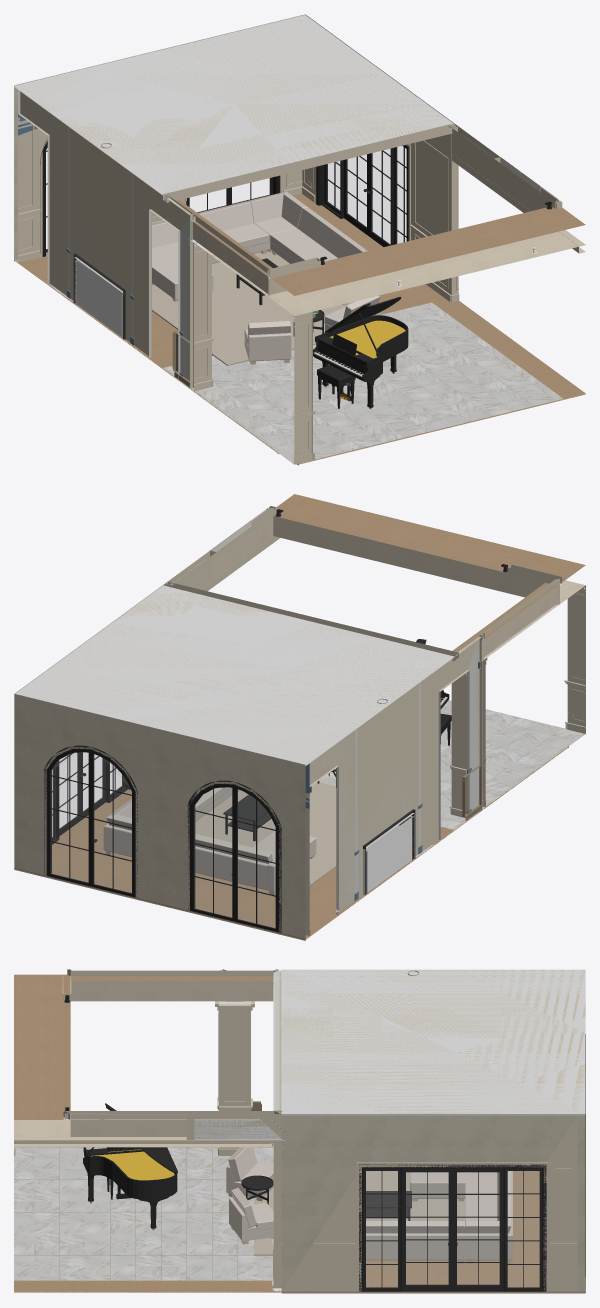
The model's file is family-room-7c22b0fc4dee.glb.
The picture shows the model from 3 angles, top to bottom: view 1: azimuth 30°, elevation 25°; view 2: azimuth 150°, elevation 25°; view 3: azimuth 270°, elevation 25°; orthographic projection.
Visible parts, largest first — view 1: family-room-4a969f5cc1ae3dfe, family-room-ba376bd68a22f7f3, family-room-50d54560d247b537, family-room-2575515a05775d9e, family-room-9d80b152e3f2ea10, family-room-3b0077416469e01b, family-room-3d5fbc3a2a5f9c05, family-room-88f8978e186bf417, family-room-1a893a20b01c9fd3, family-room-55ff1dfd7b659ec1, family-room-969b861f9850351e, family-room-e706aa16b4547c37 (+19 smaller); view 2: family-room-4a969f5cc1ae3dfe, family-room-969b861f9850351e, family-room-9d80b152e3f2ea10, family-room-2575515a05775d9e, family-room-316290d012168088, family-room-b57b1dfcc6ff1bca, family-room-50d54560d247b537, family-room-3b0077416469e01b, family-room-55ff1dfd7b659ec1, family-room-ba376bd68a22f7f3, family-room-88f8978e186bf417, family-room-3d5fbc3a2a5f9c05 (+13 smaller); view 3: family-room-4a969f5cc1ae3dfe, family-room-e706aa16b4547c37, family-room-ba376bd68a22f7f3, family-room-3d5fbc3a2a5f9c05, family-room-50d54560d247b537, family-room-2575515a05775d9e, family-room-3b0077416469e01b, family-room-0bd714ee3619f5b4, family-room-1a893a20b01c9fd3, family-room-d20359ea22d8532c, family-room-65a368b7809647e4, family-room-a8ea7d4d2b17a47a (+20 smaller).
Boxes of the visible parts, left/top/right/bottom form: family-room-4a969f5cc1ae3dfe: left=14, top=15, right=453, bottom=195; family-room-ba376bd68a22f7f3: left=163, top=302, right=563, bottom=463; family-room-50d54560d247b537: left=14, top=14, right=454, bottom=194; family-room-2575515a05775d9e: left=191, top=162, right=585, bottom=315; family-room-9d80b152e3f2ea10: left=20, top=91, right=190, bottom=380; family-room-3b0077416469e01b: left=14, top=194, right=585, bottom=464; family-room-3d5fbc3a2a5f9c05: left=316, top=145, right=408, bottom=246; family-room-88f8978e186bf417: left=152, top=251, right=384, bottom=365; family-room-1a893a20b01c9fd3: left=313, top=297, right=408, bottom=409; family-room-55ff1dfd7b659ec1: left=18, top=90, right=189, bottom=380; family-room-969b861f9850351e: left=14, top=87, right=302, bottom=262; family-room-e706aa16b4547c37: left=302, top=134, right=447, bottom=291; family-room-4a969f5cc1ae3dfe: left=14, top=585, right=454, bottom=765; family-room-969b861f9850351e: left=14, top=695, right=309, bottom=938; family-room-9d80b152e3f2ea10: left=309, top=639, right=479, bottom=912; family-room-2575515a05775d9e: left=206, top=494, right=585, bottom=660; family-room-316290d012168088: left=187, top=780, right=281, bottom=932; family-room-b57b1dfcc6ff1bca: left=44, top=745, right=137, bottom=897; family-room-50d54560d247b537: left=14, top=584, right=445, bottom=765; family-room-3b0077416469e01b: left=14, top=746, right=568, bottom=939; family-room-55ff1dfd7b659ec1: left=309, top=637, right=481, bottom=913; family-room-ba376bd68a22f7f3: left=319, top=700, right=584, bottom=829; family-room-88f8978e186bf417: left=195, top=782, right=336, bottom=885; family-room-3d5fbc3a2a5f9c05: left=52, top=752, right=130, bottom=844; family-room-4a969f5cc1ae3dfe: left=281, top=969, right=585, bottom=1115; family-room-e706aa16b4547c37: left=281, top=1115, right=577, bottom=1291; family-room-ba376bd68a22f7f3: left=14, top=1147, right=273, bottom=1280; family-room-3d5fbc3a2a5f9c05: left=359, top=1164, right=546, bottom=1291; family-room-50d54560d247b537: left=281, top=969, right=585, bottom=1114; family-room-2575515a05775d9e: left=14, top=974, right=193, bottom=1136; family-room-3b0077416469e01b: left=14, top=1171, right=585, bottom=1292; family-room-0bd714ee3619f5b4: left=70, top=976, right=273, bottom=1001; family-room-1a893a20b01c9fd3: left=83, top=1103, right=177, bottom=1229; family-room-d20359ea22d8532c: left=366, top=1221, right=465, bottom=1263; family-room-65a368b7809647e4: left=219, top=1001, right=250, bottom=1148; family-room-a8ea7d4d2b17a47a: left=14, top=1136, right=273, bottom=1147.
Size of the model in its own units: 6.16 by 3.56 by 10.26.
Materials: 46 (7 with a texture image).
